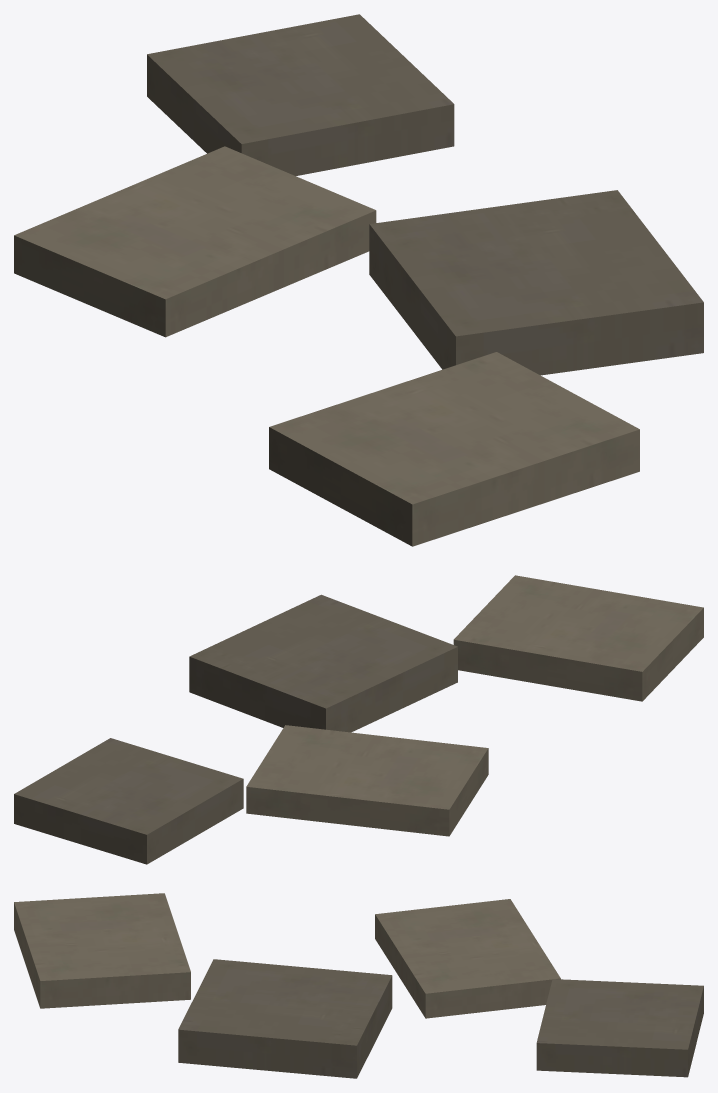
The model's file is stepping_stone_02.glb.
3 renders of one model, top to bottom at view 1: azimuth 30°, elevation 25°; view 2: azimuth 150°, elevation 25°; view 3: azimuth 270°, elevation 25°, orthographic. The views are drawn at different scales.
Parts seen in each view (by area): view 1: stepping_stone_02; view 2: stepping_stone_02; view 3: stepping_stone_02.
Boxes of the visible parts, box(x1,y1,x2,y2) form: stepping_stone_02: box(14, 14, 703, 546); stepping_stone_02: box(14, 575, 703, 864); stepping_stone_02: box(14, 893, 703, 1078).
Size of the model in its own units: 1.23 by 0.12 by 2.27.
2 materials, 2 textured.
